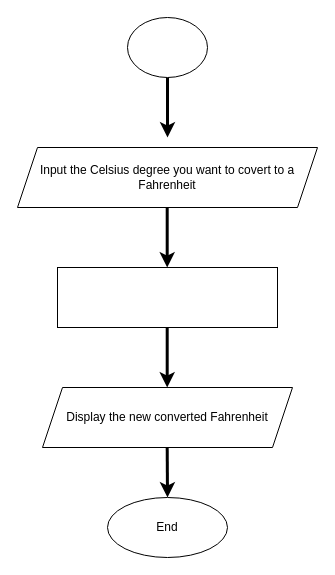
This 335x575 diagram has some shape labels left out. Here are the shapes that lost their labels. From the top down, the box of each, then its label:
(126, 16, 208, 78): start
(56, 266, 278, 328): Convert the Celsius degree to Fahrenheit
